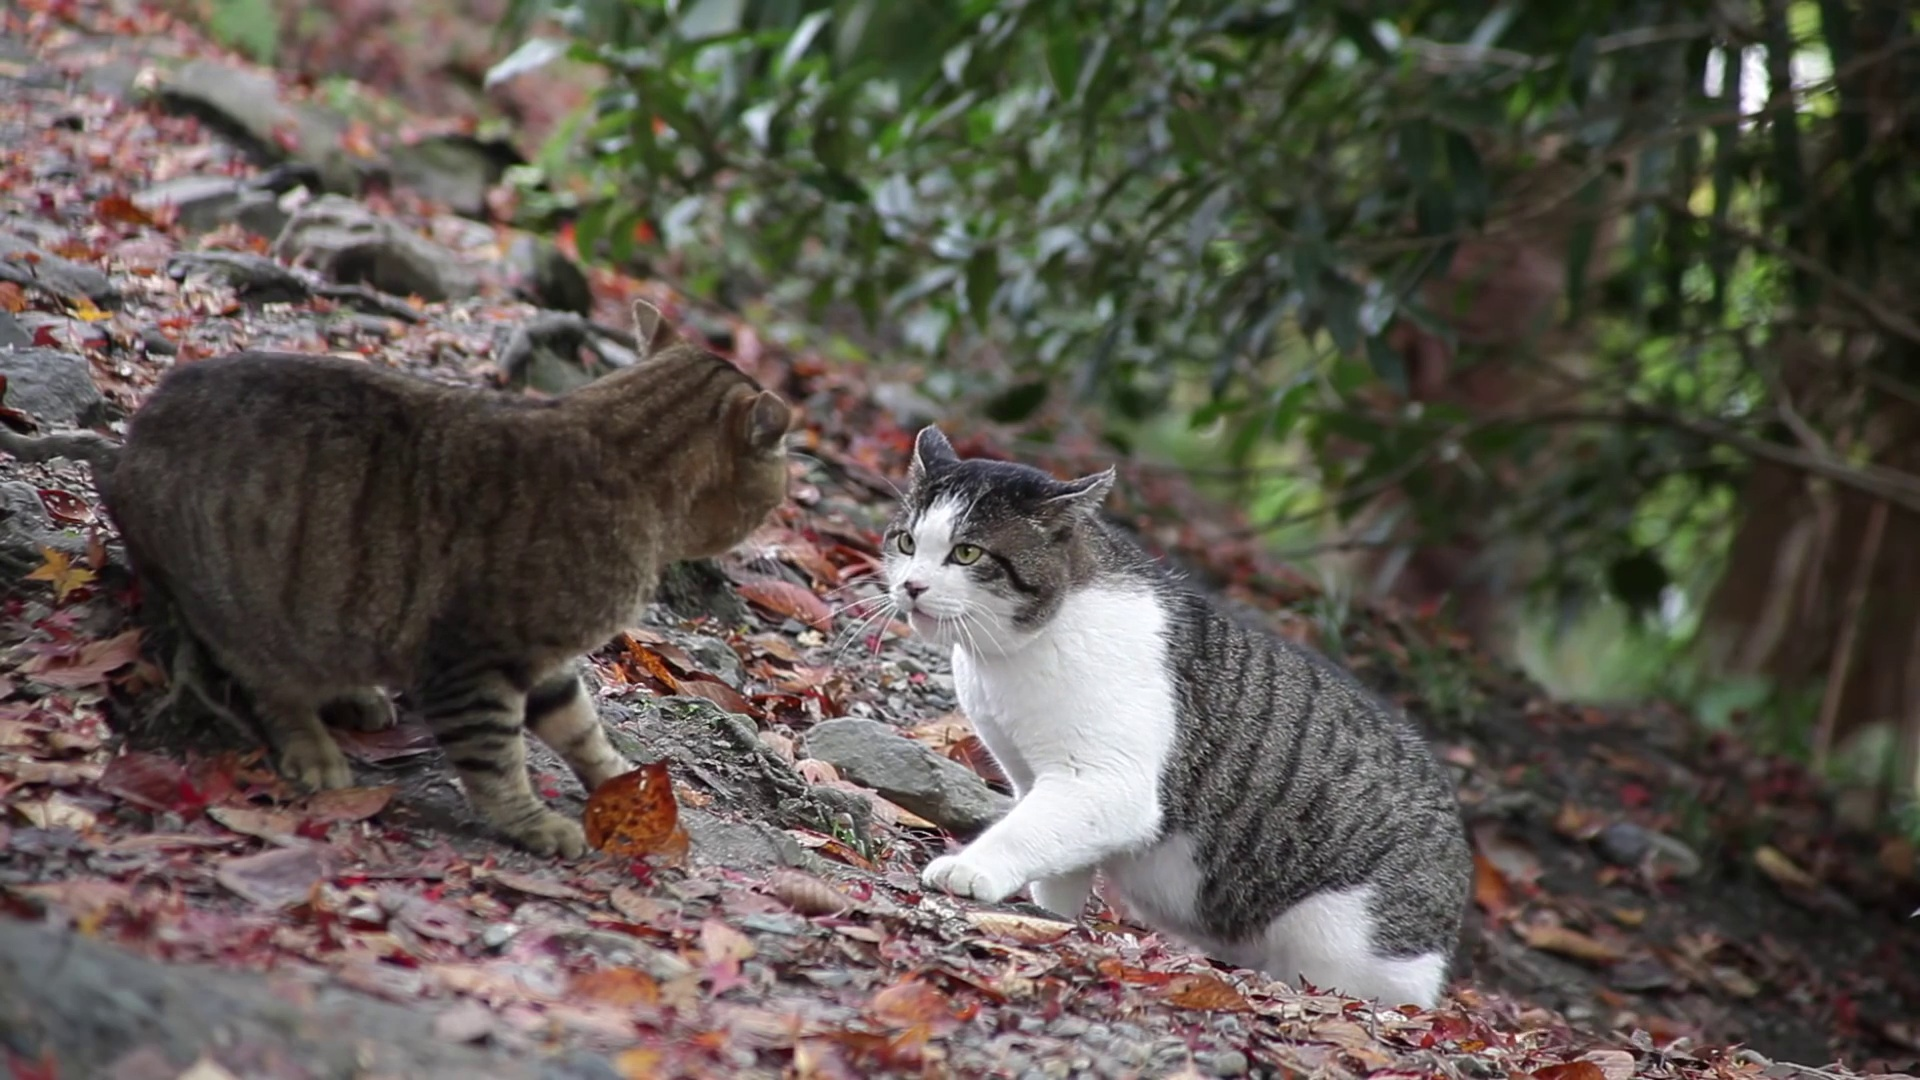black-white: (886, 422, 1466, 1005)
pure black: (125, 299, 791, 862)
